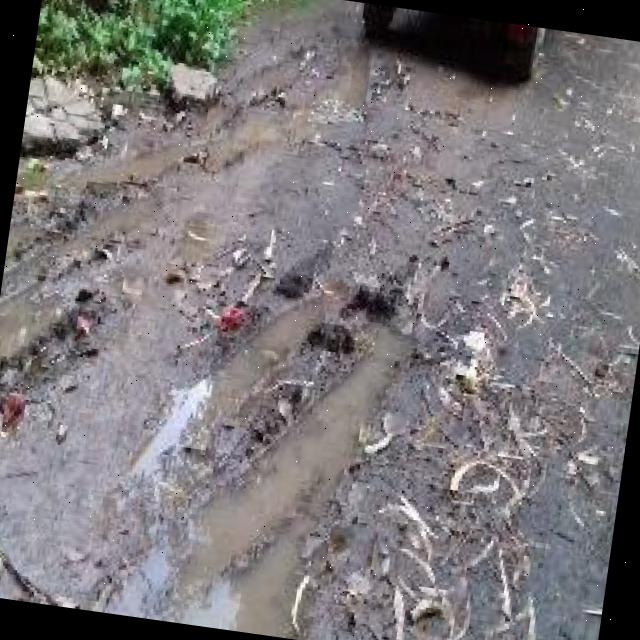stagnation: (109, 252, 440, 640)
